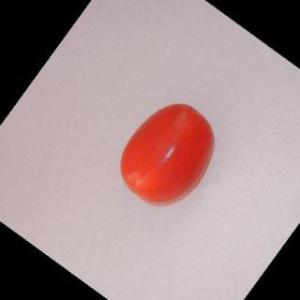tomato: (111, 94, 223, 218)
